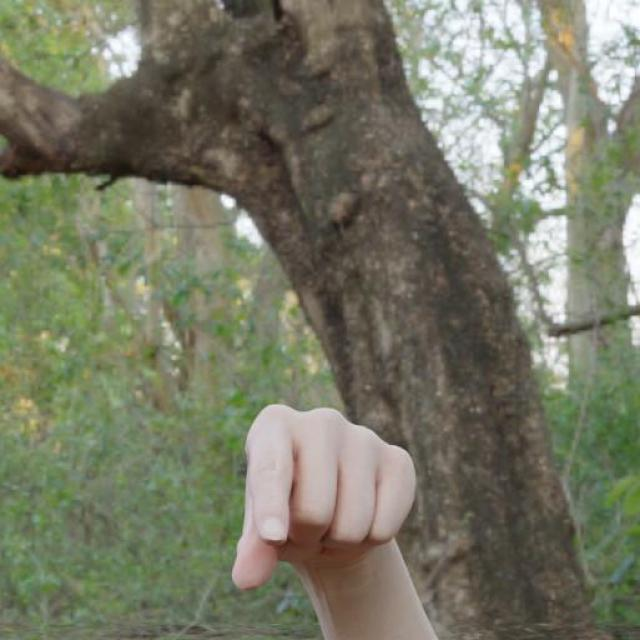Q: (230, 402, 419, 593)
